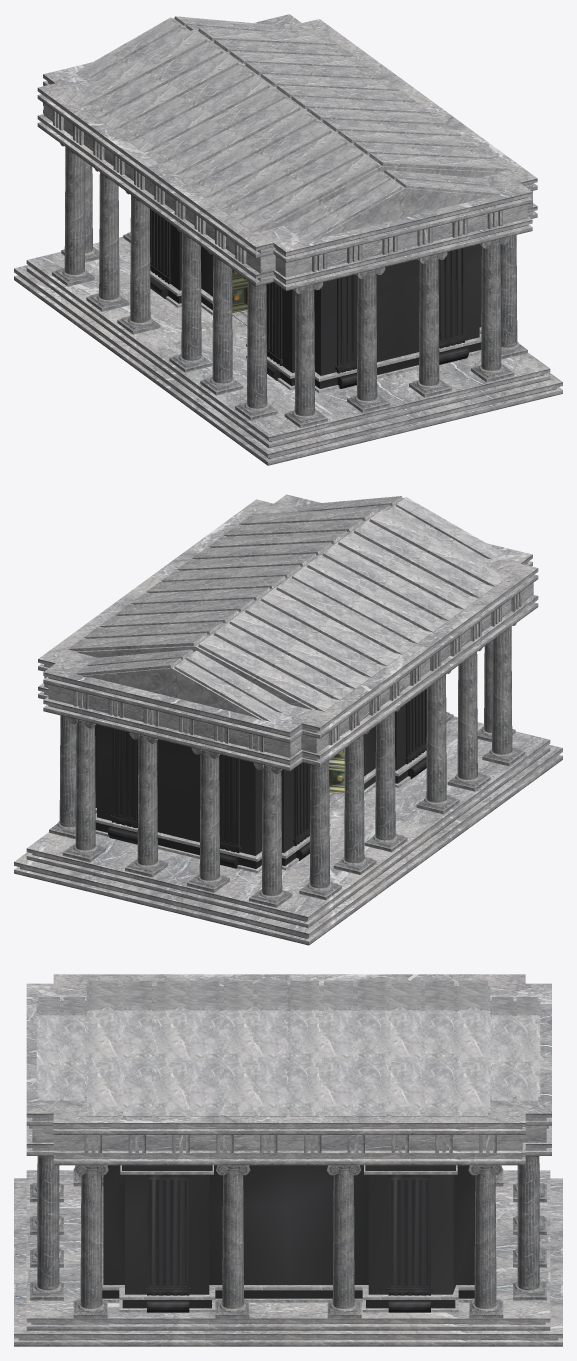
File: Courthouse.FBX
3 views of the same model, one above another, from view 1: azimuth 30°, elevation 25°; view 2: azimuth 150°, elevation 25°; view 3: azimuth 270°, elevation 25° (orthographic). The views are drawn at different scales.
Parts seen in each view (by area): view 1: Object099, Object106, Object105; view 2: Object099, Object106, Object104; view 3: Object099, Object106.
Boxes of the visible parts, x1,y1,x2,y2 form: Object099: (14,14,562,461); Object106: (14,74,562,465); Object105: (232,269,247,312); Object099: (14,494,562,941); Object106: (14,555,562,945); Object104: (329,749,344,794); Object099: (14,974,562,1342); Object106: (14,1113,562,1346).
Bounding box in the file's own units: 664 × 542 × 989.
